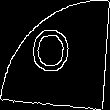O_S: (32, 28, 78, 82)
